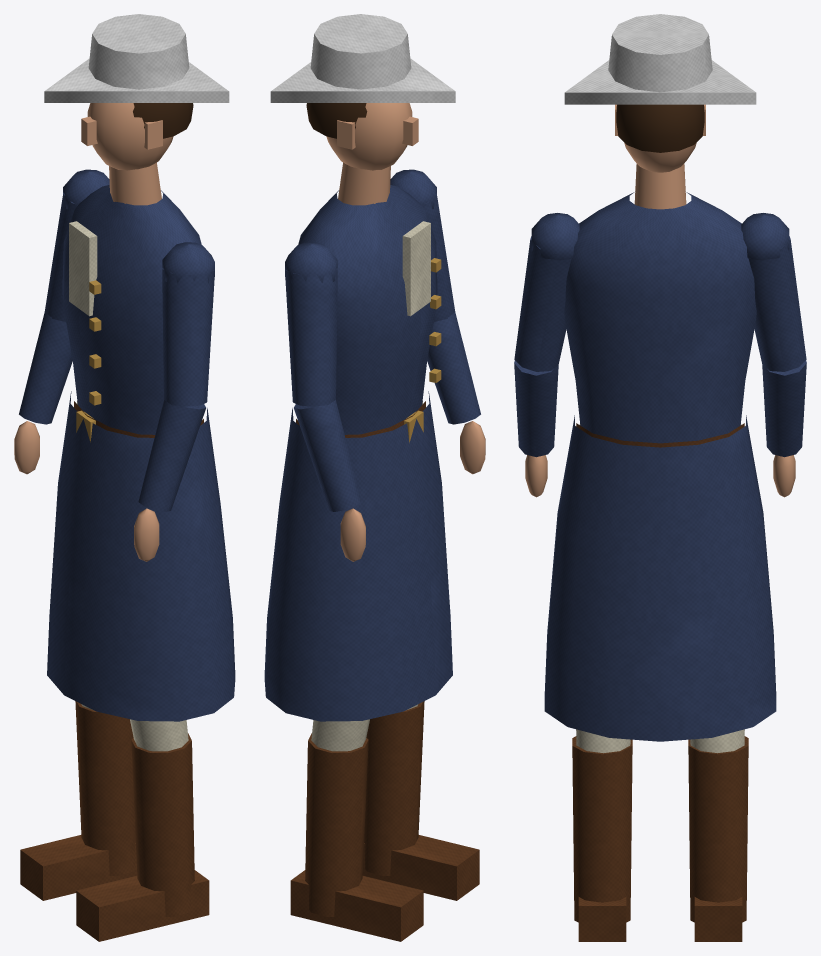
The model's file is SM_Art_Figure_officer.gltf.
3 renders of one model, left to right at view 1: azimuth 30°, elevation 25°; view 2: azimuth 150°, elevation 25°; view 3: azimuth 270°, elevation 25°, orthographic. The views are drawn at different scales.
Visible parts, largest first — view 1: SM_Art_Figure_officer; view 2: SM_Art_Figure_officer; view 3: SM_Art_Figure_officer.
Boxes of the visible parts, box(x1,y1,x2,y2) form: SM_Art_Figure_officer: box(14, 14, 235, 941); SM_Art_Figure_officer: box(264, 14, 485, 941); SM_Art_Figure_officer: box(514, 14, 806, 941).
Size of the model in its own units: 0.3997 by 1.89 by 0.561.
Materials: 7 (4 with a texture image).
